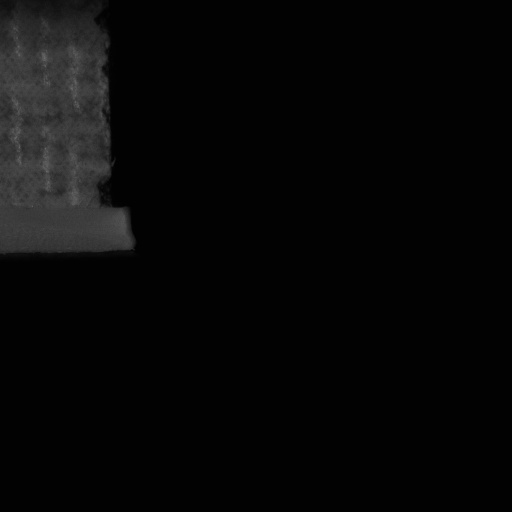bengque: (91, 167, 130, 214)
